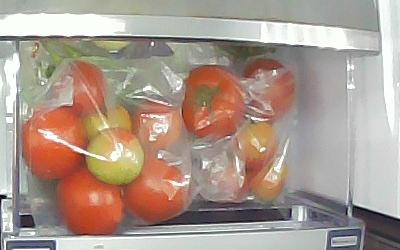tomato_vinyl: (21, 107, 89, 181), (122, 156, 190, 224), (55, 167, 123, 235), (181, 66, 243, 137), (242, 59, 294, 124), (86, 128, 144, 184), (52, 60, 107, 116), (132, 98, 182, 149), (82, 105, 132, 147), (237, 123, 278, 169), (248, 155, 288, 202)
